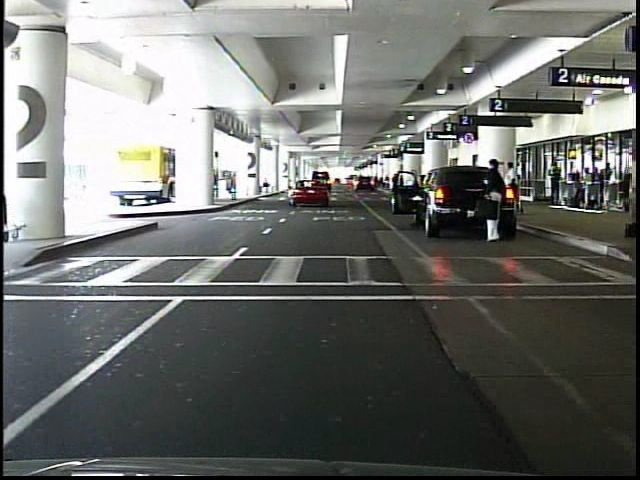person: (481, 160, 509, 247), (500, 161, 521, 216), (548, 162, 561, 205)
